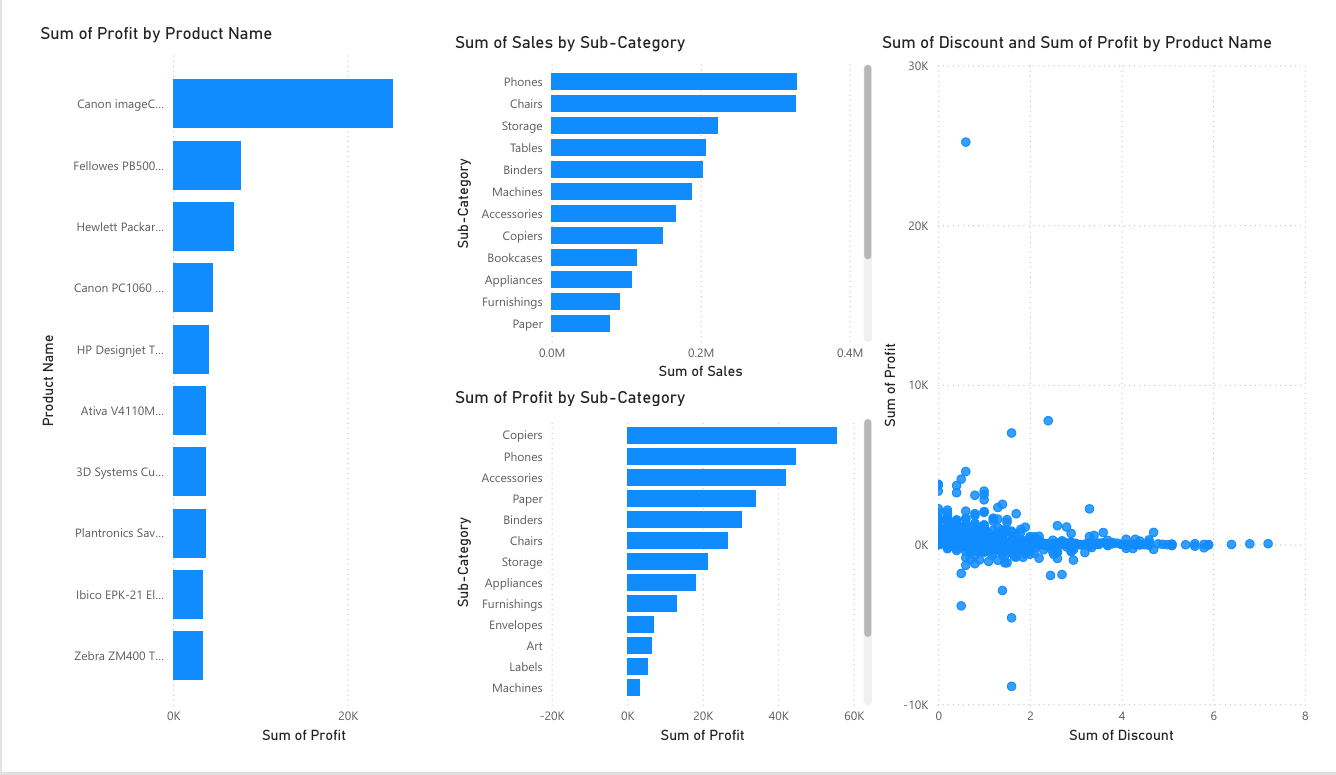

Layout of this report page (visuals, bound fields, positions):
{"tool":"powerbi","page":{"name":"Page 3","canvas":[1280,720],"ordinal":2},"visuals":[{"type":"clusteredBarChart","fields":{"Category":["Sample - Superstore.Product Name"],"Y":["Sum(Sample - Superstore.Profit)"]},"box":[9.4,0,412,720],"z":0},{"type":"barChart","fields":{"Category":["Sample - Superstore.Sub-Category"],"Y":["Sum(Sample - Superstore.Sales)"]},"box":[421.4,9.4,423.3,349.6],"z":1},{"type":"barChart","fields":{"Category":["Sample - Superstore.Sub-Category"],"Y":["Sum(Sample - Superstore.Profit)"]},"box":[421.4,360.9,423.3,359.1],"z":2},{"type":"scatterChart","fields":{"Category":["Sample - Superstore.Product Name"],"X":["Sum(Sample - Superstore.Discount)"],"Y":["Sum(Sample - Superstore.Profit)"]},"box":[844.7,9.4,434.6,710.6],"z":3}]}

Visuals, with their boxes on the page's 1280x720 design canvas (x1, y1, x2, y2). These are canvas units, not pixel positions in the 1336x775 screenshot, which may show the page scaled, cropped or inside an application window:
clusteredBarChart - Sample - Superstore.Product Name x Sum(Sample - Superstore.Profit): <region>9, 0, 421, 720</region>
barChart - Sample - Superstore.Sub-Category x Sum(Sample - Superstore.Sales): <region>421, 9, 845, 359</region>
barChart - Sample - Superstore.Sub-Category x Sum(Sample - Superstore.Profit): <region>421, 361, 845, 720</region>
scatterChart - Sample - Superstore.Product Name x Sum(Sample - Superstore.Discount): <region>845, 9, 1279, 720</region>
